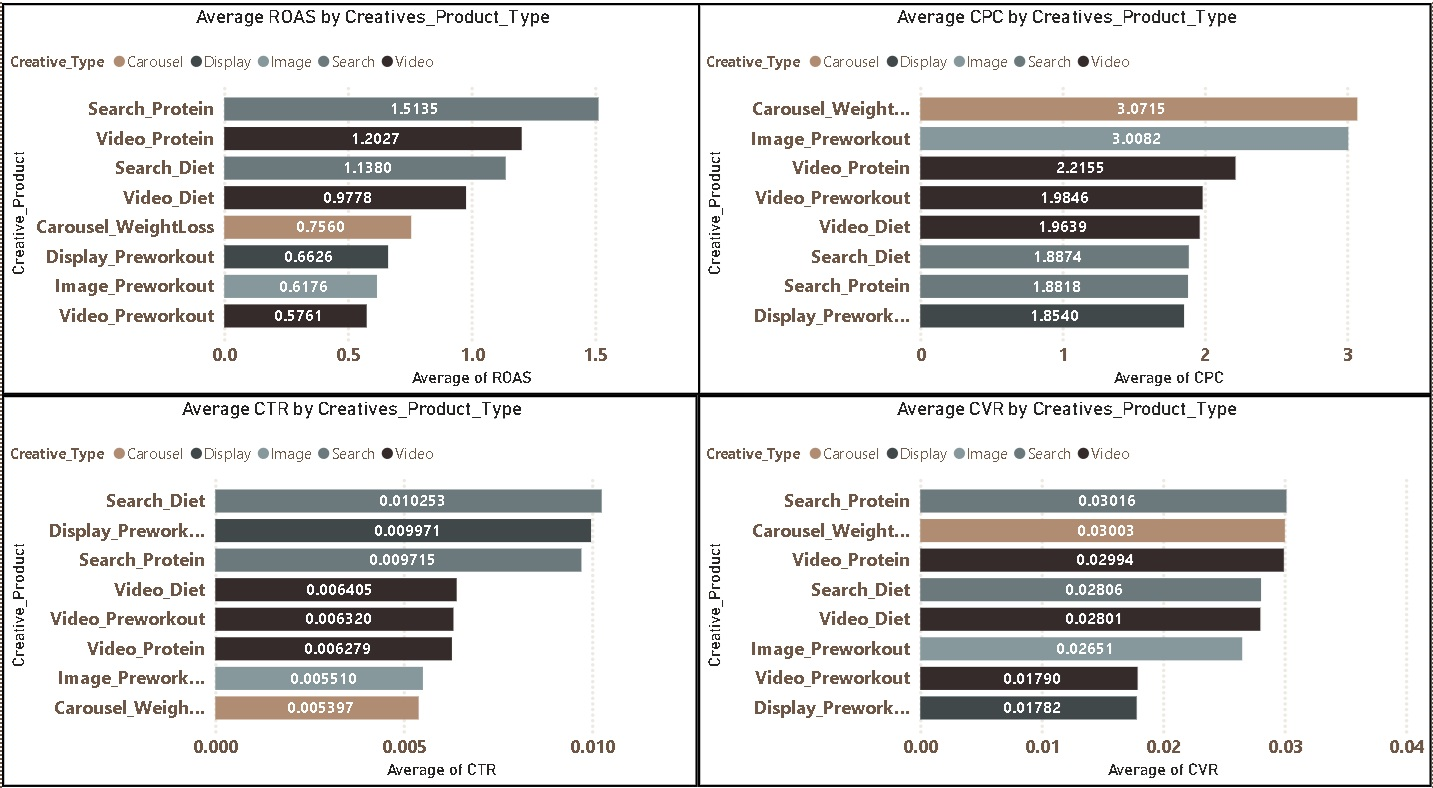

The dashboard page shown, as its layout file describes it:
{"tool":"powerbi","page":{"name":"Creative_Products Performance","canvas":[1280,720],"ordinal":9},"visuals":[{"type":"clusteredColumnChart","title":"Average ROAS by Creatives_Product_Type","fields":{"Category":["Sheet1.Creative_Type"],"Y":["Avg(Sheet1.ROAS)"],"Series":["Sheet1.Product_Category"]},"box":[0,9,660,351],"z":0},{"type":"barChart","title":"Average CPC by Creatives_Product_Type","fields":{"Category":["Sheet1.Creative_Product"],"Y":["Avg(Sheet1.CPC)"],"Series":["Sheet1.Creative_Type"]},"box":[623,9,657,351],"z":1000},{"type":"barChart","title":"Average CVR by Creatives_Product_Type","fields":{"Category":["Sheet1.Creative_Product"],"Y":["Avg(Sheet1.CVR)"],"Series":["Sheet1.Creative_Type"]},"box":[623,360,657,351],"z":2000},{"type":"barChart","title":"Average CTR by Creatives_Product_Type","fields":{"Category":["Sheet1.Creative_Product"],"Y":["Avg(Sheet1.CTR)"],"Series":["Sheet1.Creative_Type"]},"box":[0,360,623,351],"z":3000}]}

Visuals, with their boxes in screenshot pixels (x1, y1, x2, y2), scaled from the page's 1280x720 canvas onto the 1433x788 screenshot:
"Average ROAS by Creatives_Product_Type" clusteredColumnChart: [0,10,739,394]
"Average CPC by Creatives_Product_Type" barChart: [697,10,1432,394]
"Average CVR by Creatives_Product_Type" barChart: [697,394,1432,778]
"Average CTR by Creatives_Product_Type" barChart: [0,394,697,778]
